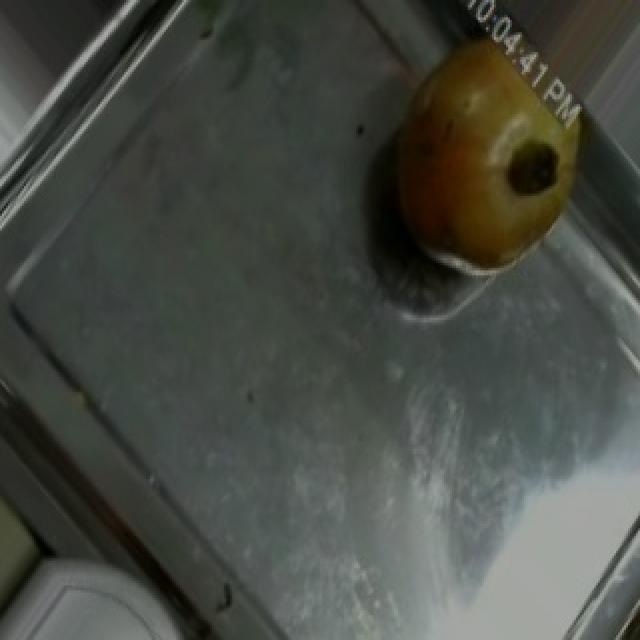fruit: (370, 2, 612, 280)
